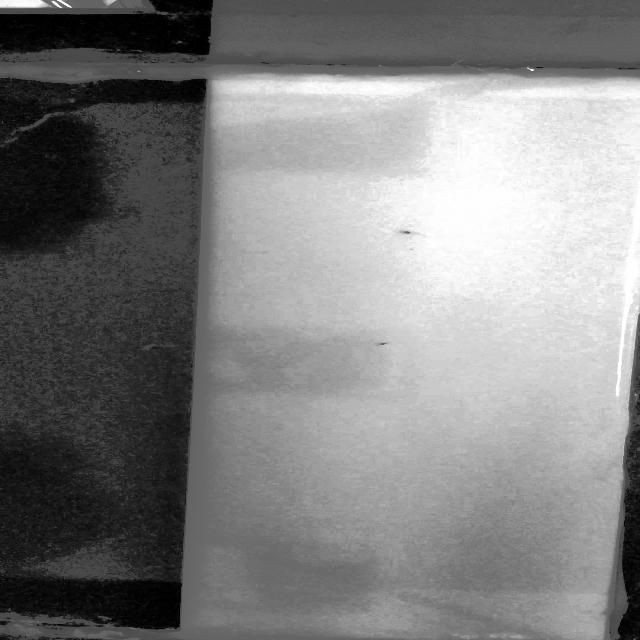shrimp: (381, 224, 429, 238), (356, 336, 403, 349)
